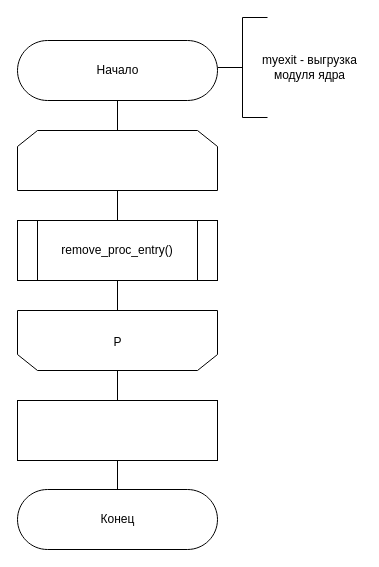
Some shapes in this 379 by 567 pixel diagram are drawn without their labels. Each missing label, with the centre of its shape:
"P, пока есть файлы в списке" belongs at (117,160).
"удалить список" belongs at (117,430).
